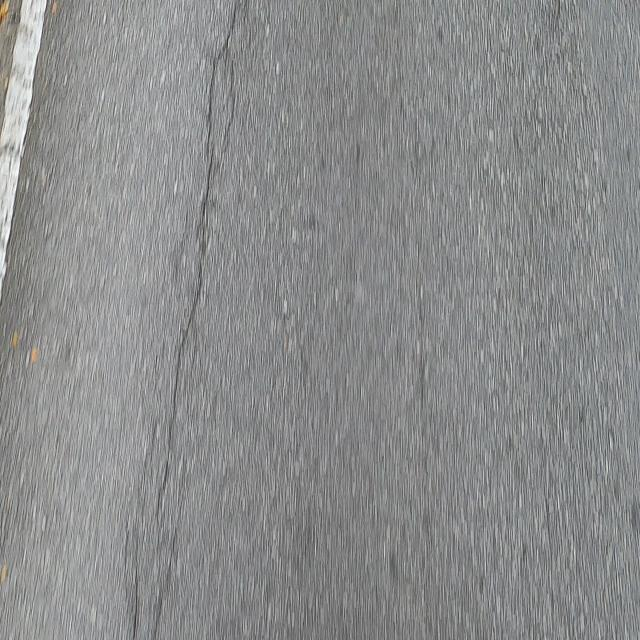Retak-Memanjang: (151, 0, 243, 526)
